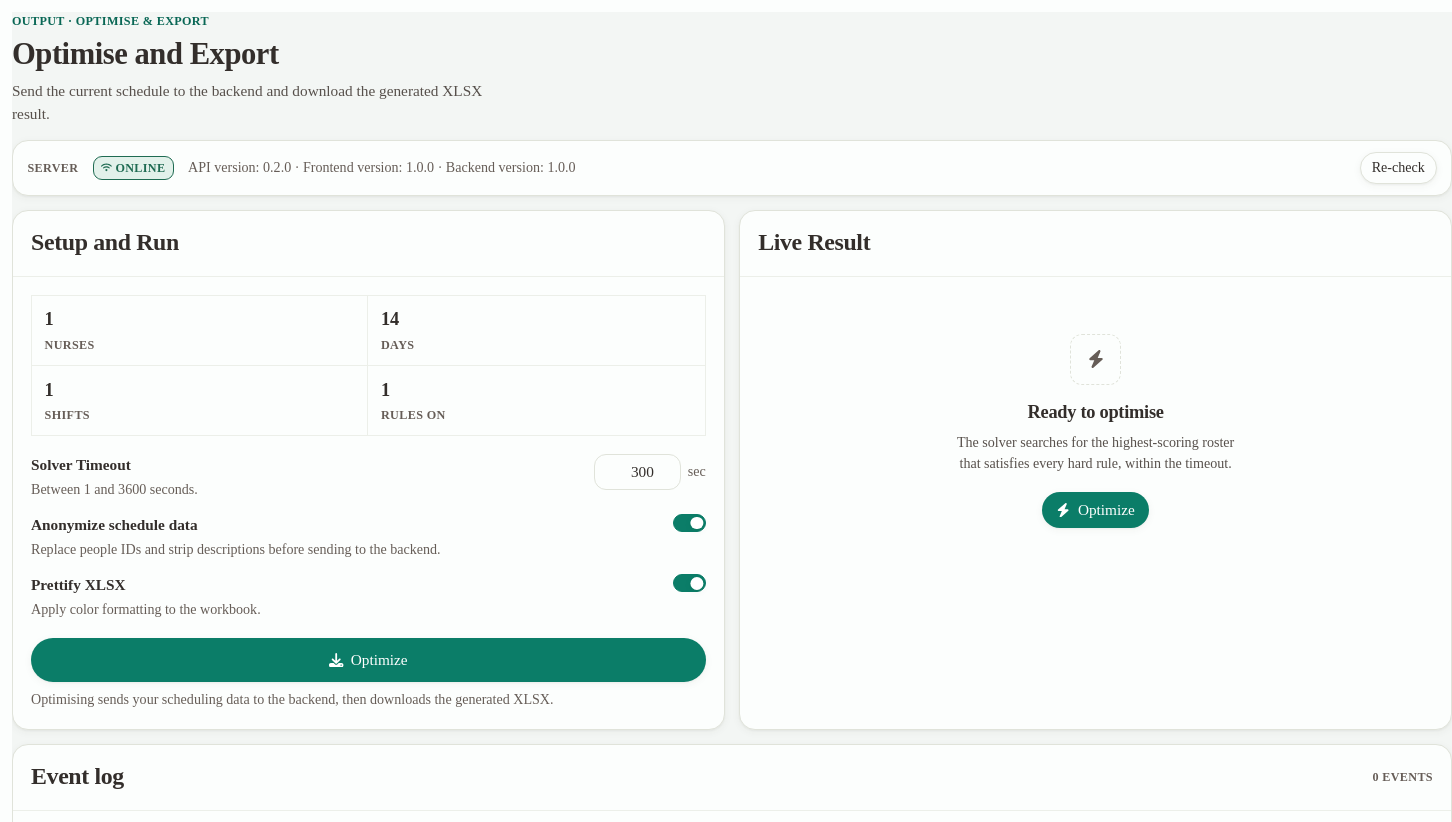
Test: OptimizeAndExportScreen — production roster capture › a verified Clear reaches the mounted gate through the F5 seam
Click the button with test id "optimize-submit" at (368, 660), box 31,638 -> 706,682
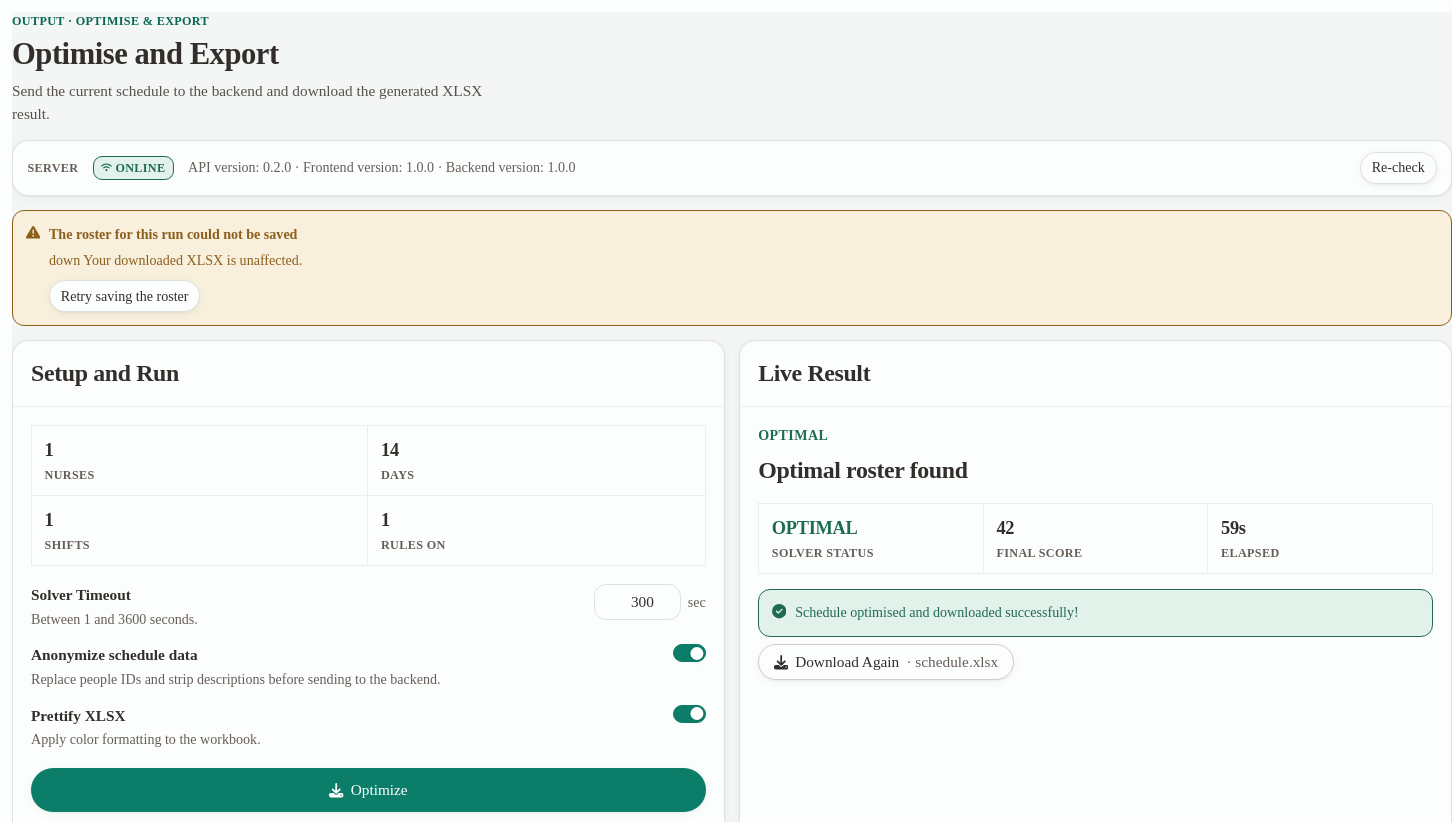
Now the message with test id "optimize-capture-fetch-failed" is shown, box 12,210 -> 1451,326
